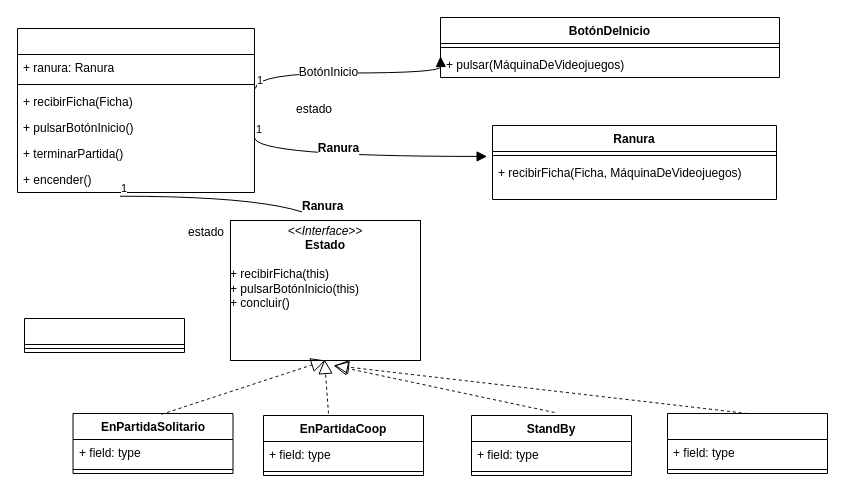
Image size: 845x493. Some labels were removed from this diagram. Here are the shapes that lost their labels. From the top down, the box of each, then its label:
(16, 28, 254, 192): MáquinaDeVideojuegos
(24, 318, 184, 352): Ficha
(666, 412, 828, 474): Apagado
